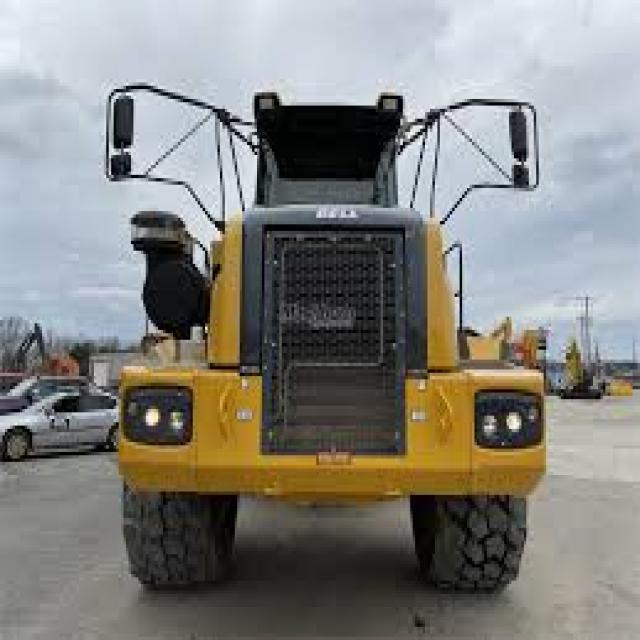dump_truck: (84, 37, 551, 600)
